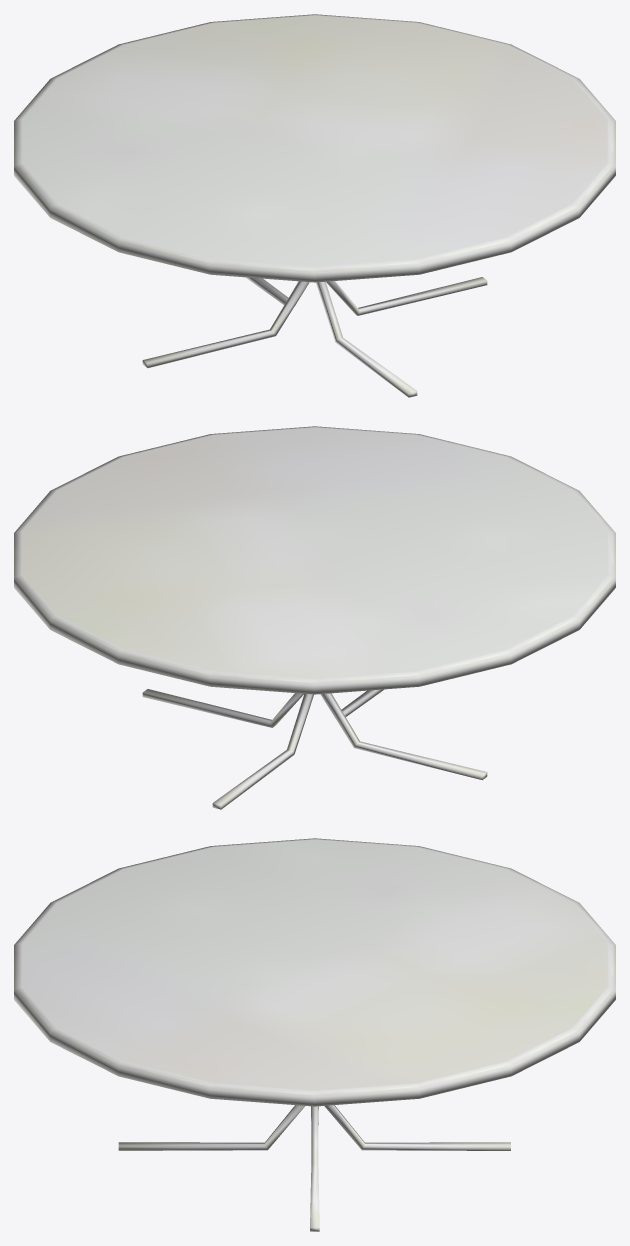
The model's file is UDC_TableRound.obj.
3 views of the same model, one above another, from view 1: azimuth 30°, elevation 25°; view 2: azimuth 150°, elevation 25°; view 3: azimuth 270°, elevation 25° (orthographic).
Parts seen in each view (by area): view 1: UDC_TableRound; view 2: UDC_TableRound; view 3: UDC_TableRound.
Part boxes in pixels (x1,y1,x2,y2): UDC_TableRound: (14, 14, 615, 397); UDC_TableRound: (14, 426, 615, 809); UDC_TableRound: (14, 838, 615, 1231).
Size of the model in its own units: 0.8607 by 0.2857 by 0.8476.
1 material, 1 textured.
